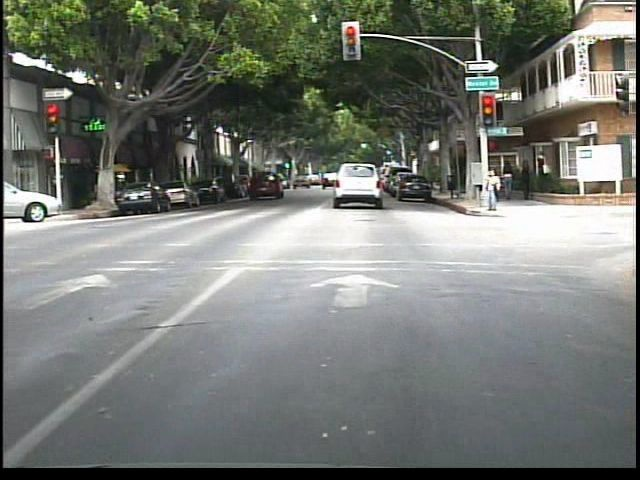person: (479, 166, 503, 215), (500, 158, 518, 204), (518, 158, 536, 204), (533, 151, 551, 192)
